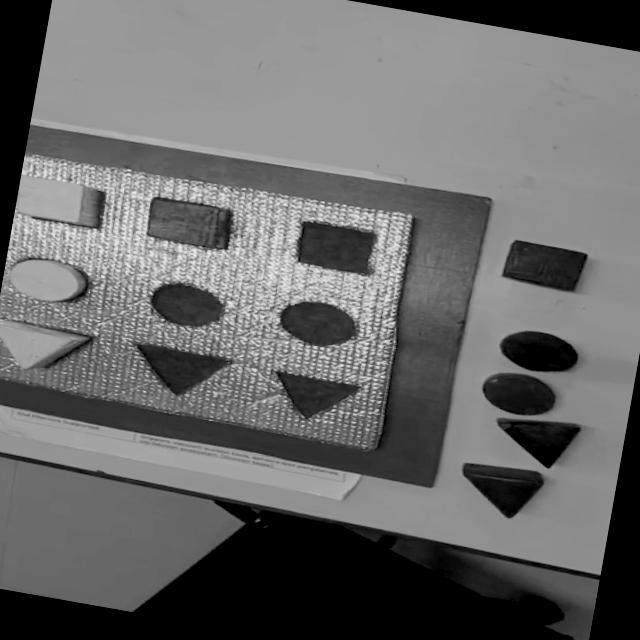bcircle: (494, 324, 583, 379)
bcube: (498, 237, 590, 295)
btriangle: (488, 410, 582, 472)
mtcircle: (272, 295, 360, 353), (143, 278, 228, 334)
mtcube: (292, 218, 380, 277)
mttriangle: (126, 340, 231, 404), (265, 368, 360, 428)
rcircle: (478, 368, 560, 422)
rcube: (140, 194, 233, 252)
rtriangle: (455, 458, 546, 524)
wb: (0, 145, 427, 454)
ycircle: (2, 253, 92, 309)
ycube: (13, 172, 108, 230)
ytriangle: (0, 317, 92, 382)
